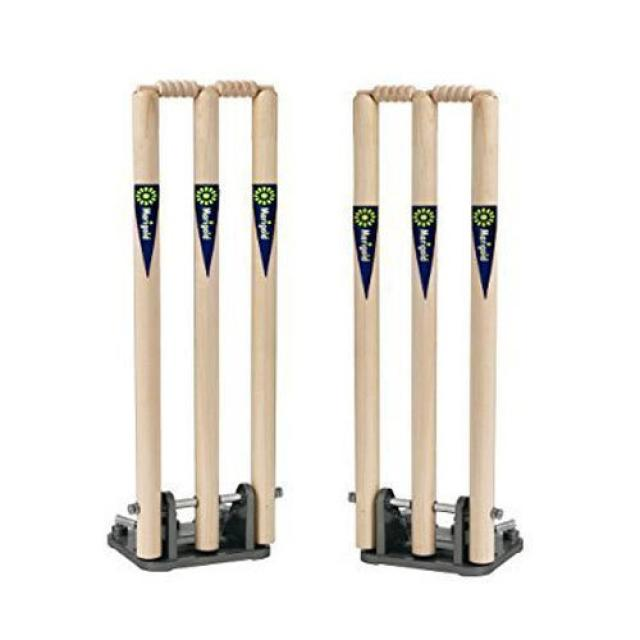stump: (131, 73, 280, 568), (348, 79, 498, 565)
